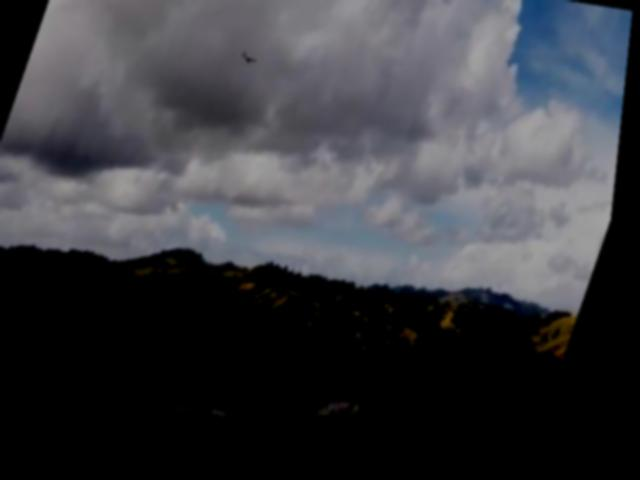iha: (239, 55, 259, 73)
